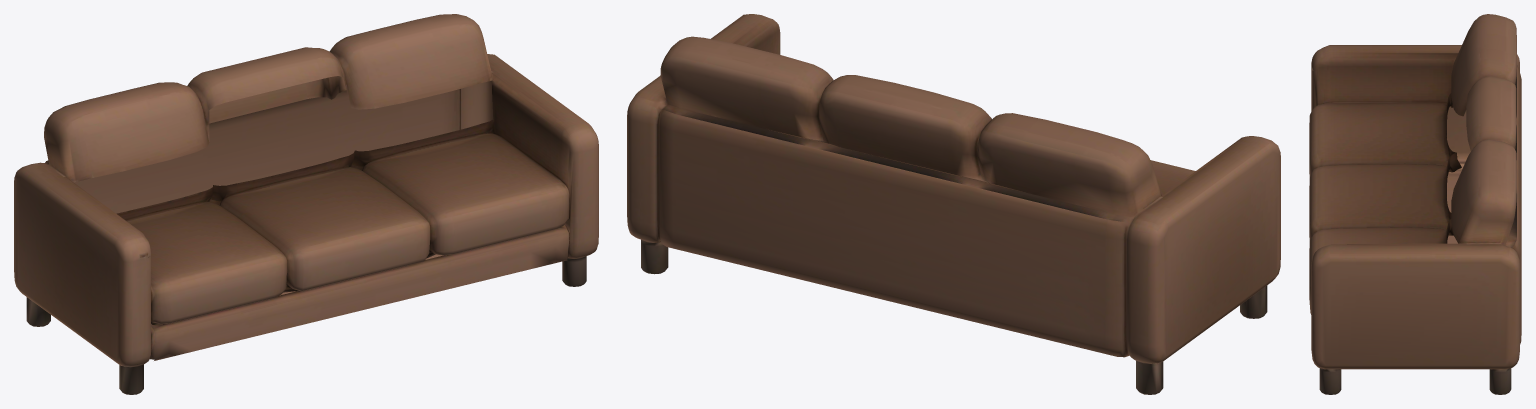
The model's file is break_room_couch_444abf63_v3.glb.
3 views of the same model, side by side, from view 1: azimuth 30°, elevation 25°; view 2: azimuth 150°, elevation 25°; view 3: azimuth 270°, elevation 25° (orthographic). The views are drawn at different scales.
Parts seen in each view (by area): view 1: material; view 2: material; view 3: material.
Boxes of the visible parts, x1,y1,x2,y2 form: material: (14, 14, 598, 394); material: (627, 14, 1280, 394); material: (1309, 14, 1521, 394).
Bounding box in the file's own units: 1.9 × 0.7987 × 0.8006.
1 material, 1 textured.
